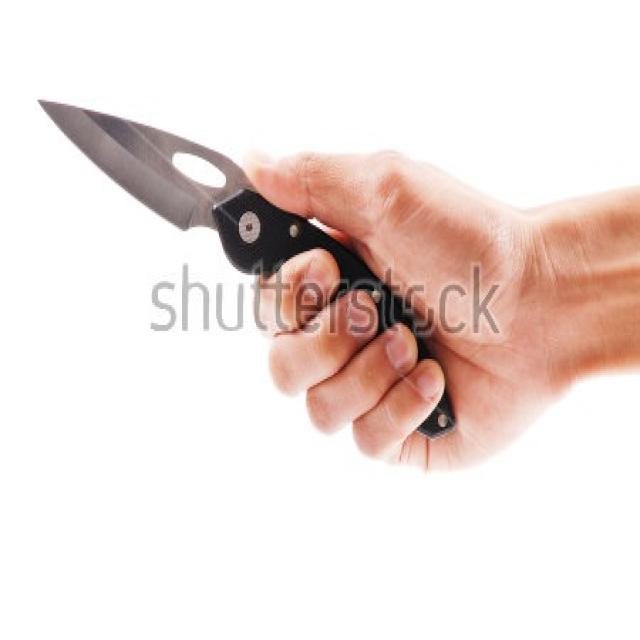knife: (36, 92, 464, 446)
